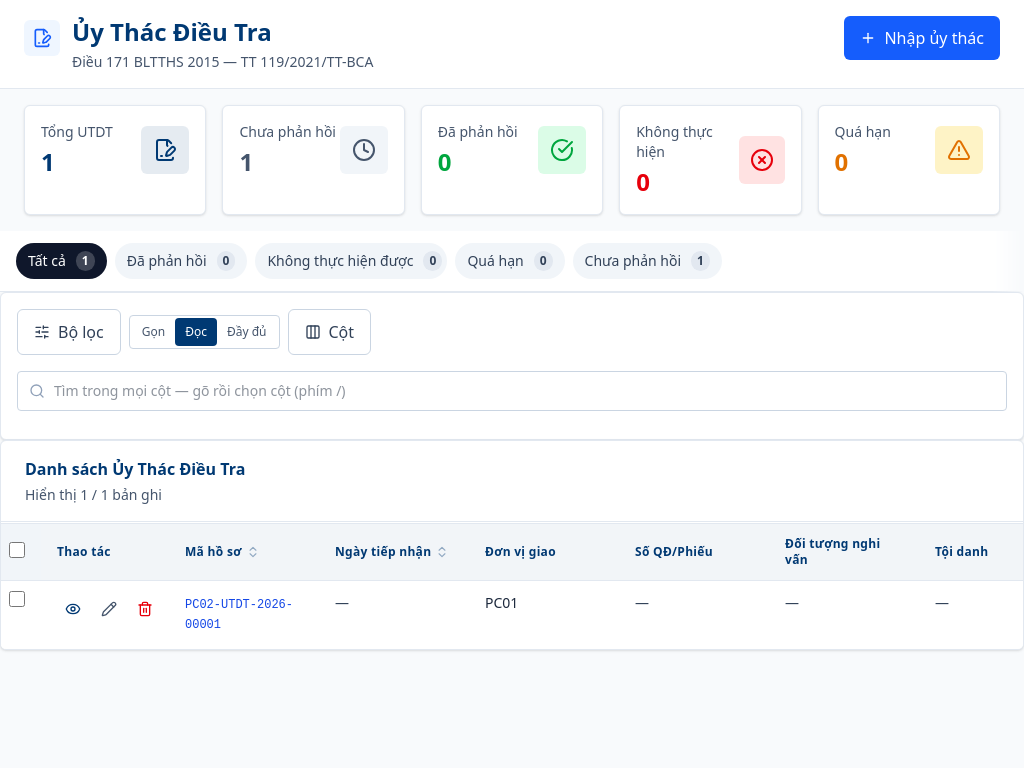
Test: UyThacDieuTraListPage — PR3 shell refactor › clicking Trash button opens delete modal
Expected: the text "PC02-UTDT-2026-00001" is shown, x1=185 y1=598 x2=293 y2=632
Click the button titled "Xóa ủy thác". click: (145, 609)
box: x1=129 y1=593 x2=161 y2=625
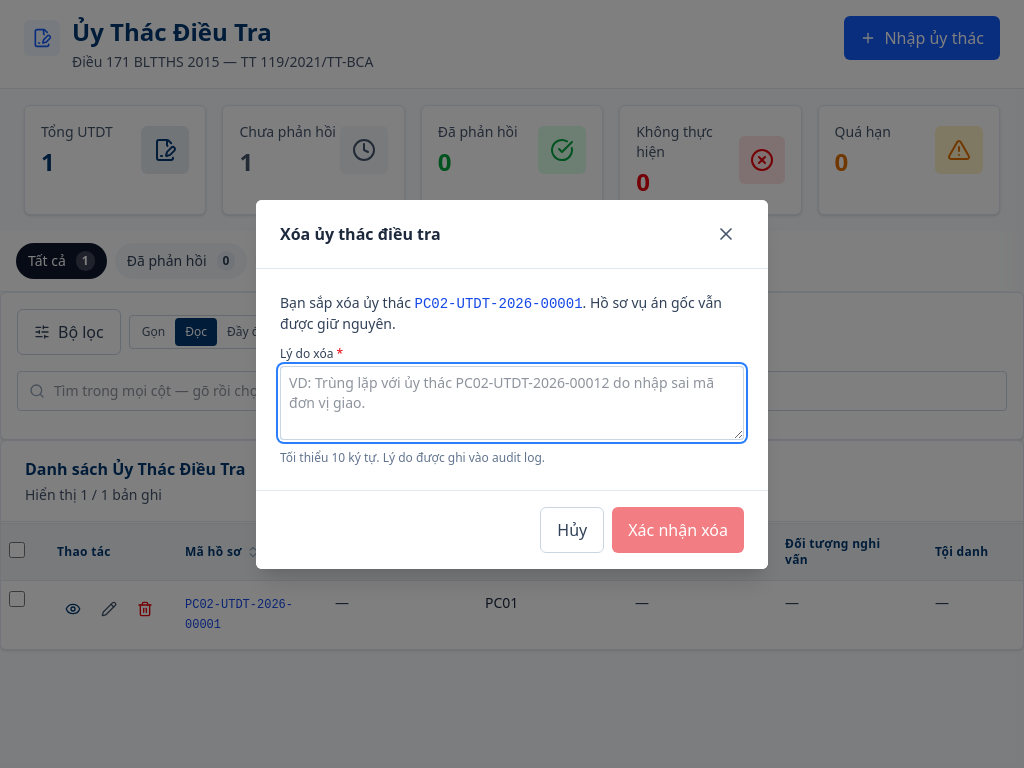
Expected: the text box with test id "utdt-delete-reason" is shown, x1=280 y1=366 x2=744 y2=440
